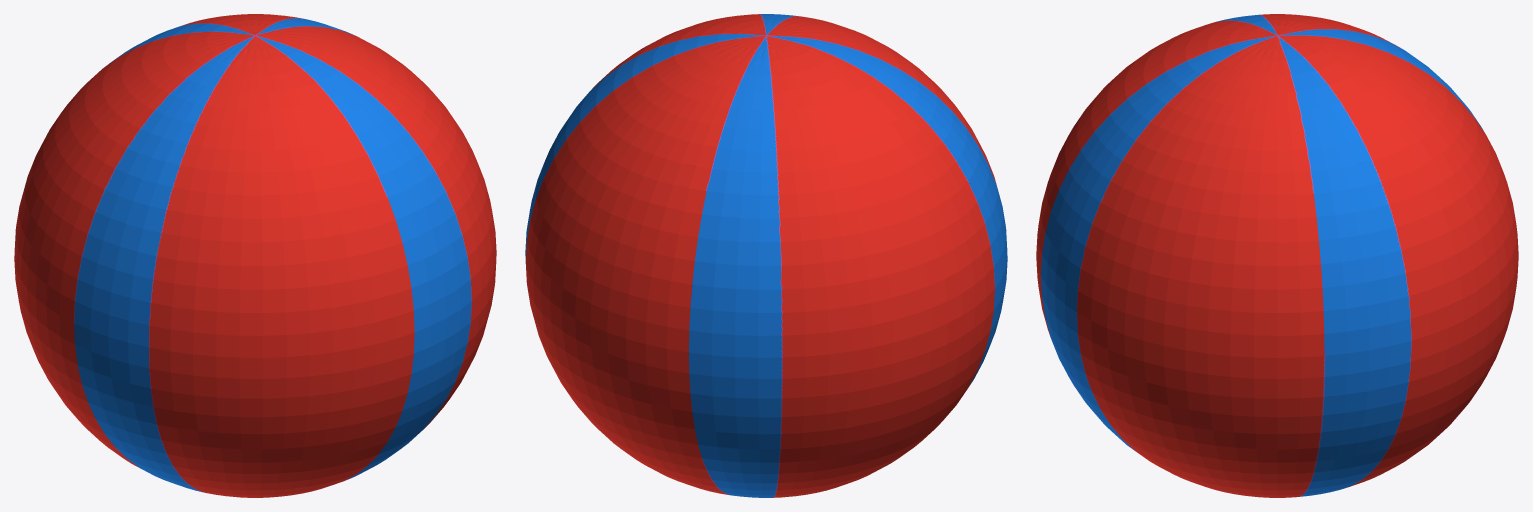
Rendered from pelota.obj.
3 views of the same model, side by side, from view 1: azimuth 30°, elevation 25°; view 2: azimuth 150°, elevation 25°; view 3: azimuth 270°, elevation 25° (orthographic).
Visible parts, largest first — view 1: Sphere; view 2: Sphere; view 3: Sphere.
Part boxes in pixels (left/top/right/bottom): Sphere: left=14, top=14, right=496, bottom=497; Sphere: left=525, top=14, right=1007, bottom=497; Sphere: left=1036, top=14, right=1518, bottom=497.
Size of the model in its own units: 1.98 by 2 by 1.98.
1 material, 1 textured.
